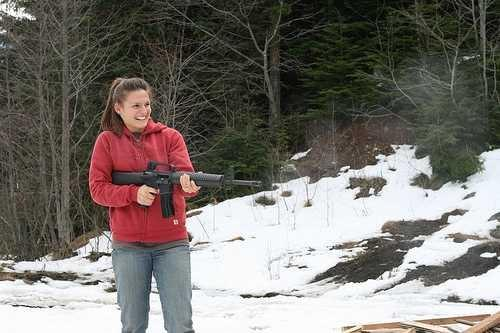heavyweapon: (91, 149, 277, 224)
